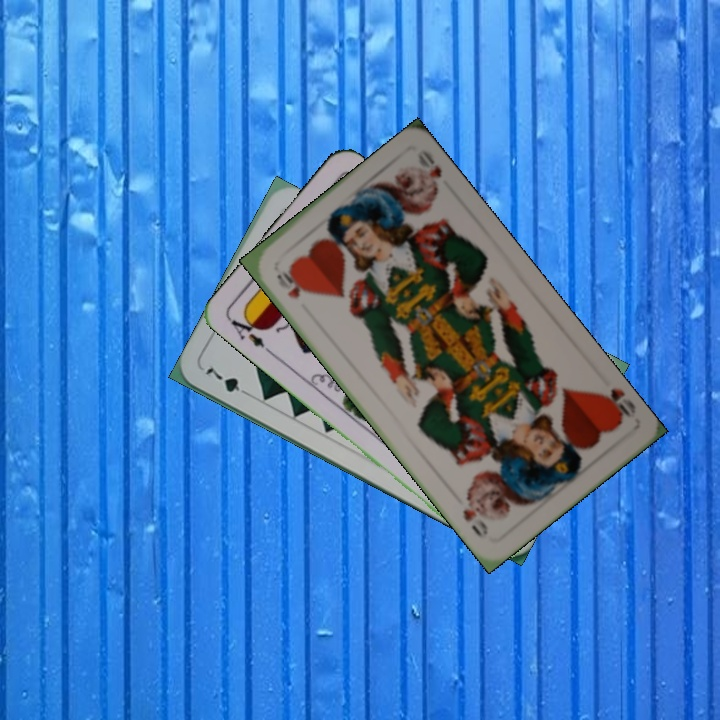EA: (225, 309, 268, 350)
G7: (201, 363, 254, 400)
HO: (592, 384, 639, 427), (272, 265, 303, 302)
